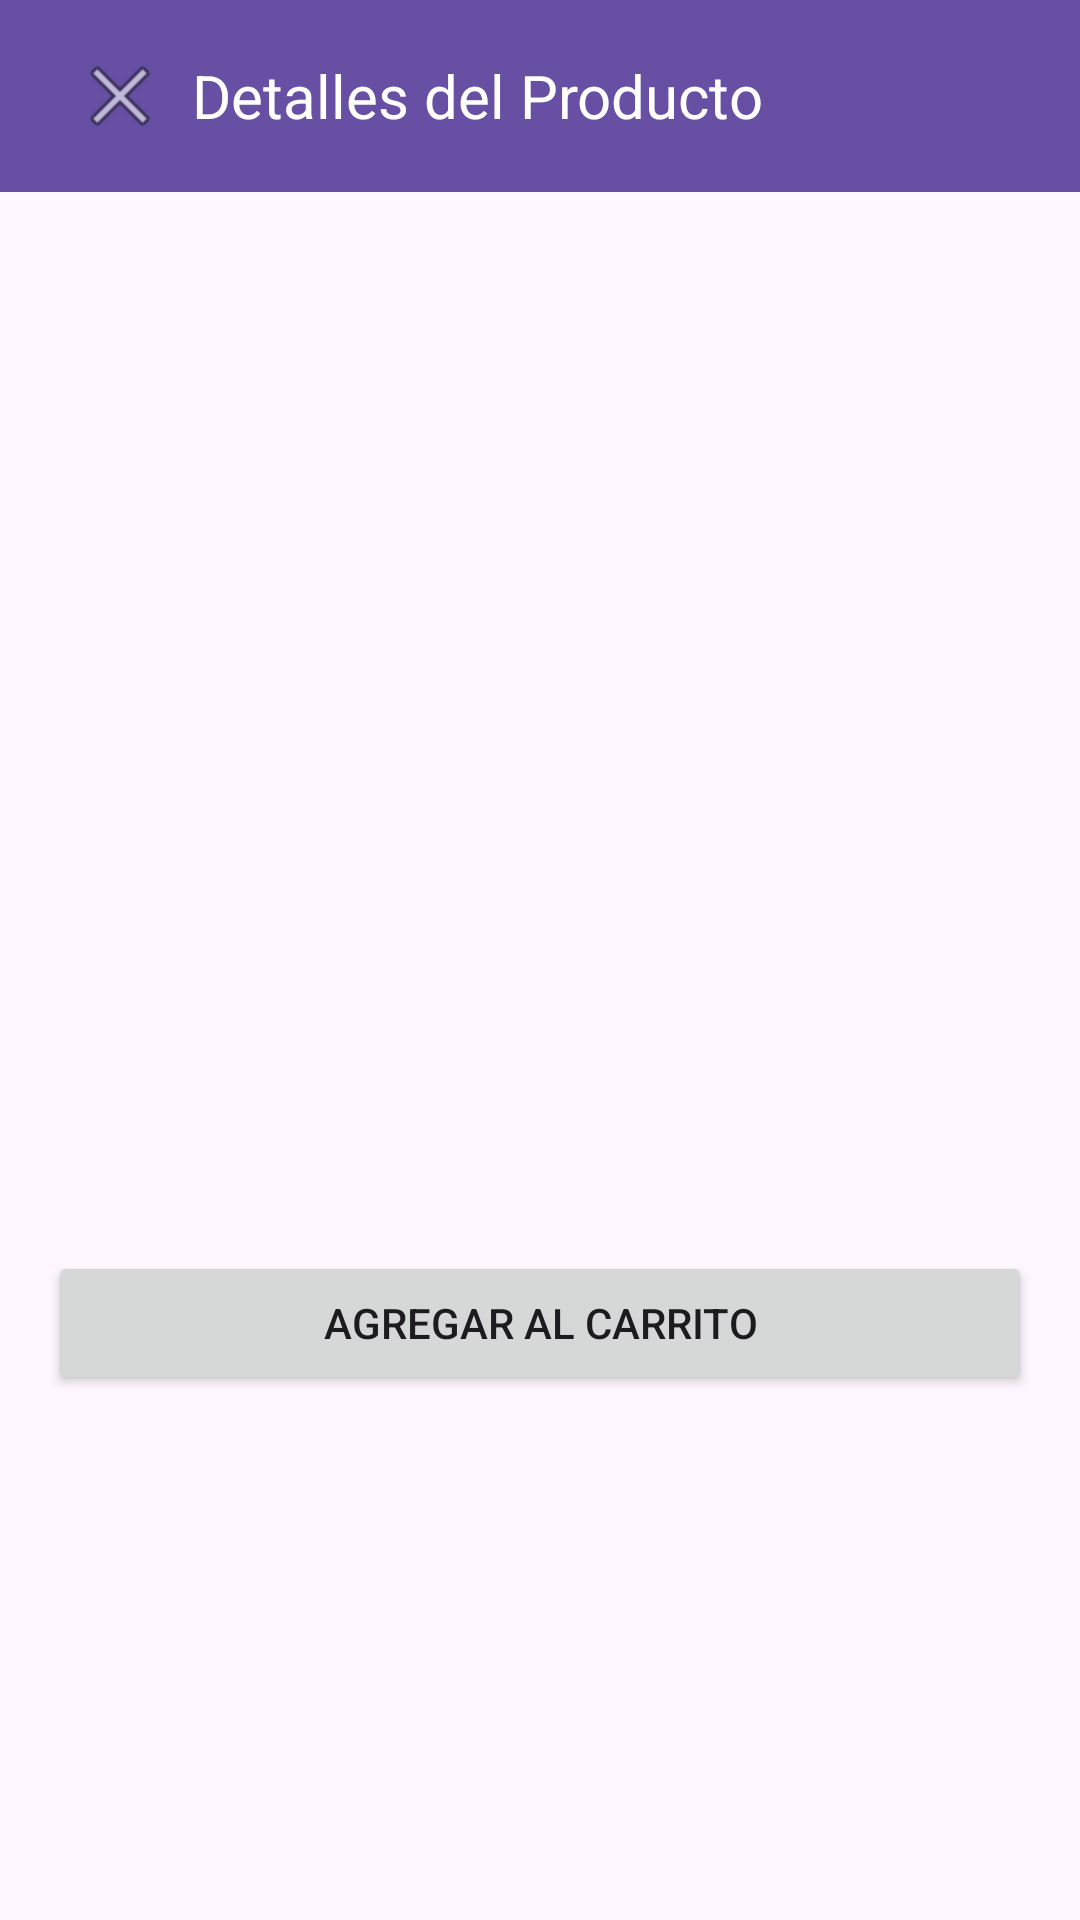

Locate icon controls on the screen. Image size 1080px x 1920px, boxes as (x1=x1, y1=y1, x2=x2, y2=y2).
Volver: (x1=90, y1=66, x2=150, y2=126)
